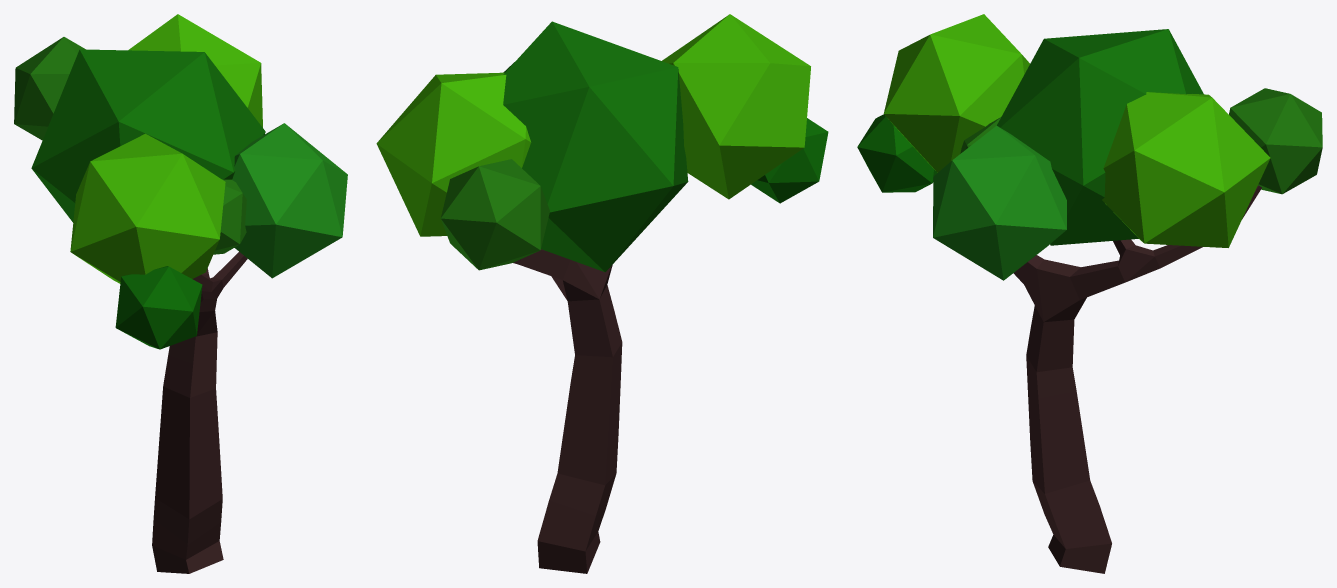
The model's file is Low poly tree 2.glb.
3 renders of one model, left to right at view 1: azimuth 30°, elevation 25°; view 2: azimuth 150°, elevation 25°; view 3: azimuth 270°, elevation 25°, orthographic. The views are drawn at different scales.
Parts seen in each view (by area): view 1: Icosphere.028, Icosphere.029, Cube.003, Icosphere.030, Icosphere.032, Icosphere.027, Icosphere.026, Icosphere.031; view 2: Icosphere.028, Icosphere.029, Cube.003, Icosphere.027, Icosphere.026, Icosphere.032; view 3: Icosphere.028, Icosphere.027, Cube.003, Icosphere.030, Icosphere.029, Icosphere.026, Icosphere.032.
Part boxes in pixels (x1,y1,x2,y2): Icosphere.028: (31, 49, 265, 222); Icosphere.029: (70, 133, 225, 283); Cube.003: (152, 252, 247, 573); Icosphere.030: (232, 123, 347, 278); Icosphere.032: (115, 266, 202, 349); Icosphere.027: (128, 14, 262, 127); Icosphere.026: (14, 37, 85, 140); Icosphere.031: (213, 179, 246, 254); Icosphere.028: (503, 21, 688, 272); Icosphere.029: (662, 14, 810, 199); Cube.003: (513, 249, 622, 573); Icosphere.027: (376, 72, 531, 236); Icosphere.026: (440, 159, 549, 270); Icosphere.032: (751, 118, 828, 203); Icosphere.028: (997, 29, 1203, 245); Icosphere.027: (1102, 92, 1270, 247); Cube.003: (1013, 185, 1261, 573); Icosphere.030: (933, 125, 1066, 280); Icosphere.029: (883, 14, 1029, 172); Icosphere.026: (1229, 88, 1322, 194); Icosphere.032: (857, 114, 936, 192).
Bounding box in the file's own units: 5.65 × 9.59 × 7.84.
